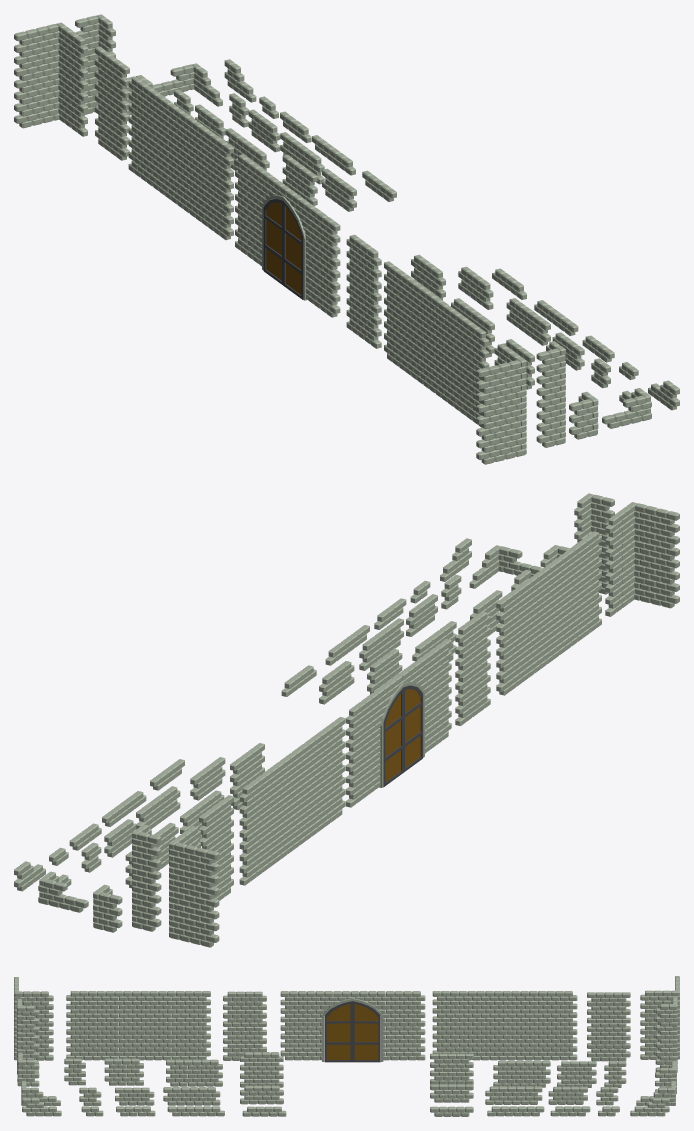
The model's file is Murs gros pack.fbx.
3 renders of one model, top to bottom at view 1: azimuth 30°, elevation 25°; view 2: azimuth 150°, elevation 25°; view 3: azimuth 270°, elevation 25°, orthographic. The views are drawn at different scales.
Parts seen in each view (by area): view 1: Mur droite milieu, Mur gauche milieu, Mur Portail, Coin droite grand, Coin gauche grand, Mur gauche Double, Mur droite double, Coin gauche petit, Coin droite petit, Porte Droite, Porte Gauche, Mur droite moyen0 (+13 smaller); view 2: Mur droite milieu, Mur gauche milieu, Mur Portail, Coin gauche grand, Coin droite grand, Mur gauche Double, Coin droite petit, Mur droite double, Coin gauche petit, Porte Droite, Porte Gauche, Mur gauche moyen0 (+14 smaller); view 3: Mur gauche milieu, Mur droite milieu, Mur Portail, Mur droite double, Mur gauche Double, Coin droite grand, Porte Droite, Porte Gauche, Coin gauche grand, Mur gauche grand3, Mur droite grand3, Mur gauche grand4 (+27 smaller).
Part boxes in pixels (x1,y1,x2,y2): Mur droite milieu: (128,77,233,240); Mur gauche milieu: (384,261,489,427); Mur Portail: (235,154,340,317); Coin droite grand: (14,22,87,136); Coin gauche grand: (476,343,526,464); Mur gauche Double: (346,234,381,348); Mur droite double: (95,46,129,160); Coin gauche petit: (536,341,565,447); Coin droite petit: (75,14,115,114); Porte Droite: (263,198,283,285); Porte Gauche: (283,201,302,299); Mur droite moyen0: (152,63,222,106); Mur droite milieu: (239,717,345,885); Mur gauche milieu: (496,531,601,695); Mur Portail: (345,639,451,807); Coin gauche grand: (605,502,679,616); Coin droite grand: (169,826,219,947); Mur gauche Double: (455,611,490,725); Coin droite petit: (132,824,161,931); Mur droite double: (199,795,233,900); Coin gauche petit: (574,493,614,594); Porte Droite: (383,687,403,787); Porte Gauche: (403,685,422,772); Mur gauche moyen0: (469,545,542,588); Mur gauche milieu: (66,991,210,1060); Mur droite milieu: (432,991,577,1060); Mur Portail: (280,991,425,1061); Mur droite double: (587,992,630,1061); Mur gauche Double: (223,991,266,1060); Coin droite grand: (640,976,679,1059); Porte Droite: (352,1001,380,1062); Porte Gauche: (324,1001,352,1062); Coin gauche grand: (14,977,53,1060); Mur gauche grand3: (166,1059,222,1086); Mur droite grand3: (493,1060,550,1087); Mur gauche grand4: (240,1052,283,1087).
Bounding box in the file's own units: 8232 × 3932 × 31413.
